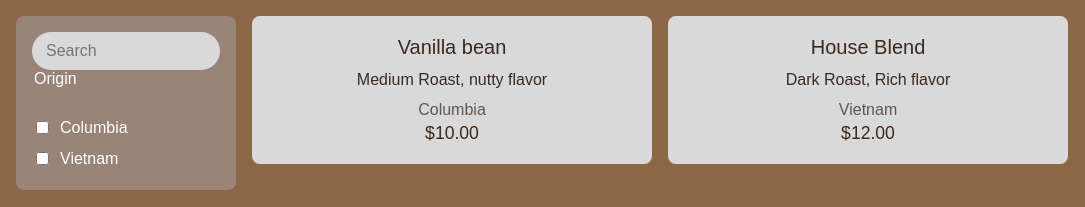
Shop page › filters by origin when a checkbox is ticked
Expected: the heading "Vanilla bean" is shown, [398,36,506,58]
Click the checkbox labelled "Vietnam" at (42,158), box [36,152,49,165]
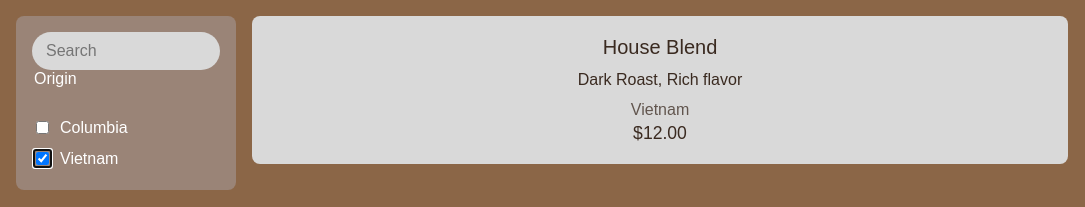
Expected: the heading "House Blend" is shown, [603,36,717,58]
Result: the link "Vanilla bean" is gone
